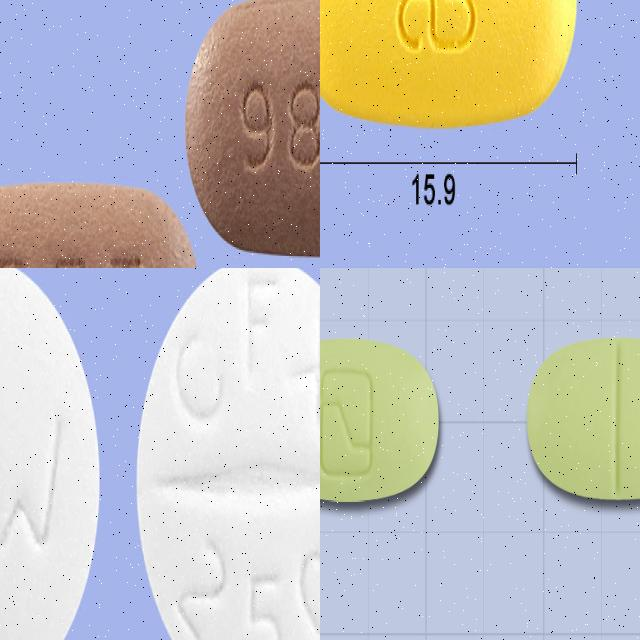Biktarvy: (181, 0, 320, 262), (0, 180, 206, 268)
Ciplus: (135, 268, 320, 640), (0, 268, 105, 640)
Claridon: (320, 0, 579, 135)
Claroma Tab-500mg: (320, 332, 441, 506), (525, 335, 640, 505)
